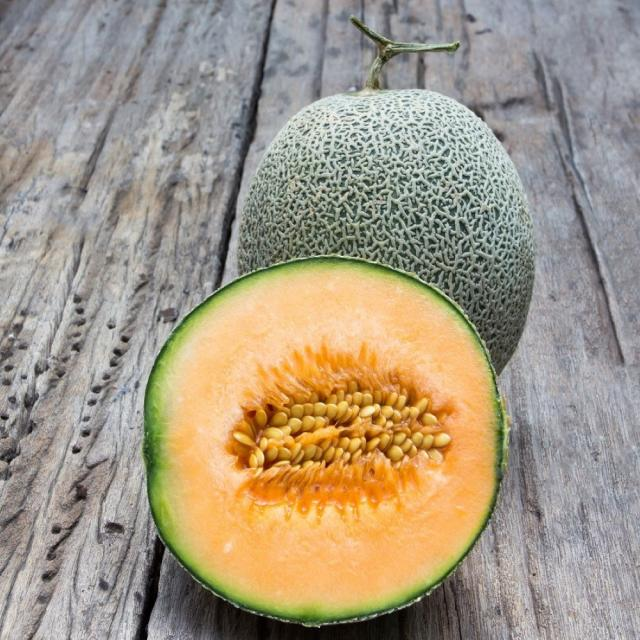melon: (141, 256, 511, 632), (235, 90, 540, 373)
